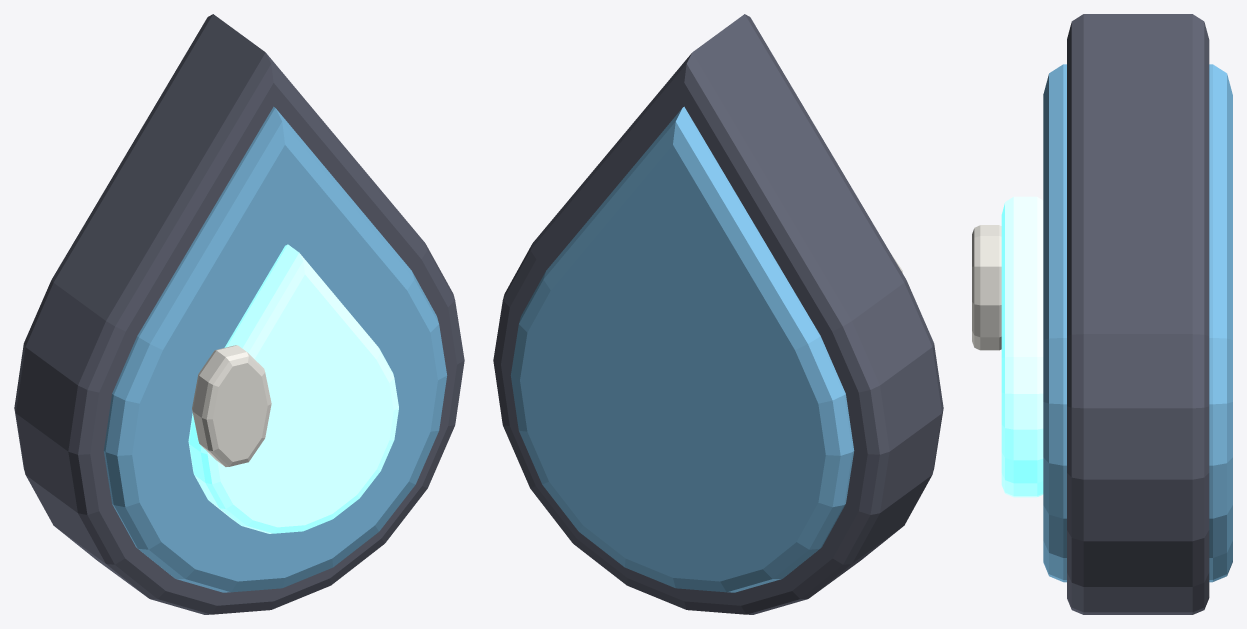
Rendered from game-ui-icon-library-mana-drop-e8a7baa3__18986.glb.
3 renders of one model, left to right at view 1: azimuth 30°, elevation 25°; view 2: azimuth 150°, elevation 25°; view 3: azimuth 270°, elevation 25°, orthographic. The views are drawn at different scales.
Visible parts, largest first — view 1: mana-drop; view 2: mana-drop; view 3: mana-drop.
Boxes of the visible parts, x1,y1,x2,y2 form: mana-drop: [14, 14, 464, 614]; mana-drop: [493, 14, 943, 614]; mana-drop: [972, 14, 1232, 614].
Size of the model in its own units: 0.6962 by 0.94 by 0.383.
